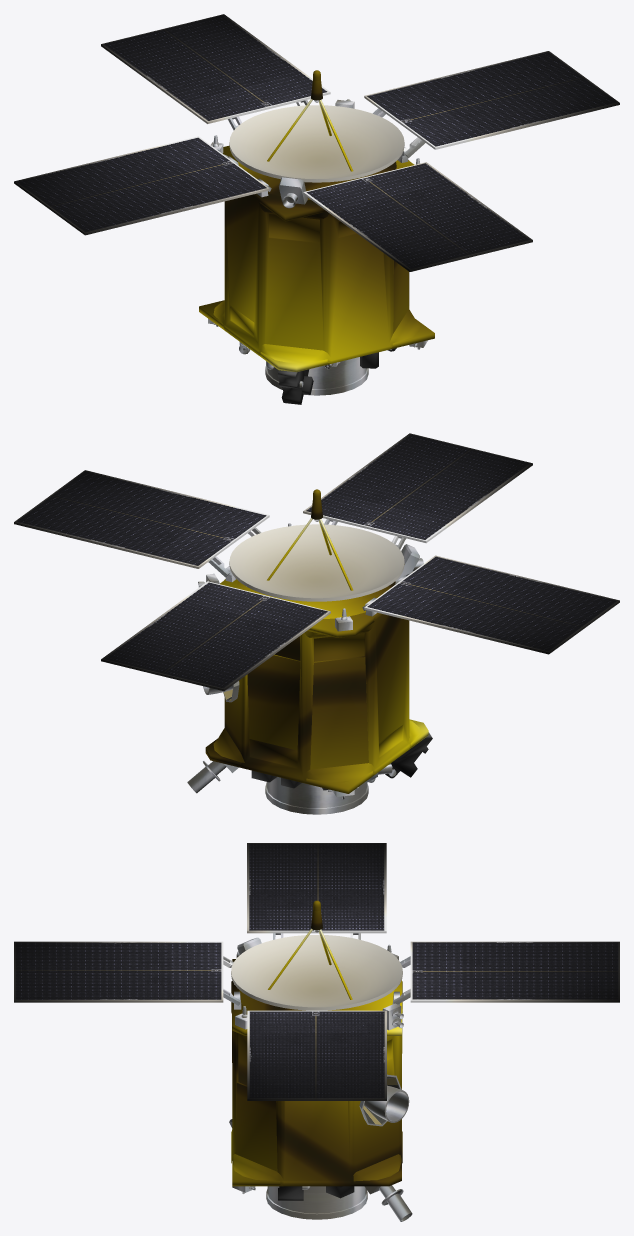
The model's file is NEAR Shoemaker.glb.
3 renders of one model, top to bottom at view 1: azimuth 30°, elevation 25°; view 2: azimuth 150°, elevation 25°; view 3: azimuth 270°, elevation 25°, orthographic.
Visible parts, largest first — view 1: shiny_panels, foil_gold, tex_01, foil_silver; view 2: shiny_panels, foil_gold, tex_01, foil_silver; view 3: shiny_panels, tex_01, foil_gold, foil_silver.
Boxes of the visible parts, x1=… form: shiny_panels: x1=16, y1=15, x2=617, y2=269; foil_gold: x1=199, y1=70, x2=434, y2=372; tex_01: x1=14, y1=14, x2=619, y2=395; foil_silver: x1=277, y1=348, x2=396, y2=404; shiny_panels: x1=16, y1=434, x2=617, y2=688; foil_gold: x1=205, y1=489, x2=428, y2=793; tex_01: x1=14, y1=433, x2=619, y2=814; foil_silver: x1=251, y1=732, x2=432, y2=790; shiny_panels: x1=15, y1=843, x2=618, y2=1098; tex_01: x1=14, y1=843, x2=619, y2=1221; foil_gold: x1=231, y1=900, x2=402, y2=1186; foil_silver: x1=229, y1=1119, x2=354, y2=1200.
Size of the model in its own units: 5.29 by 2.86 by 5.29.
4 materials, 4 textured.
